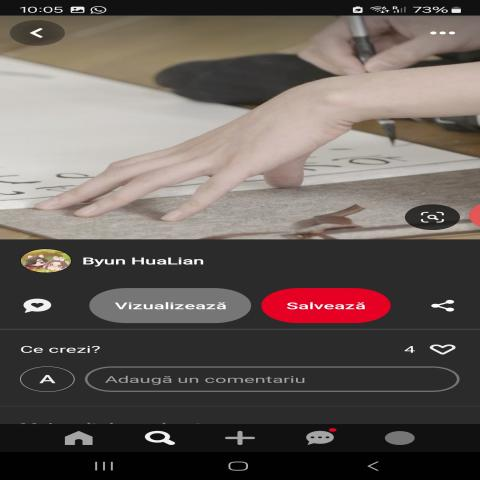hands: (18, 64, 412, 234)
